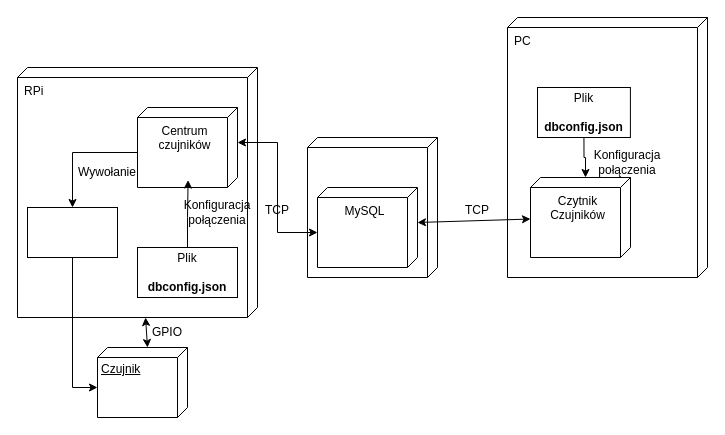
Image size: 725x435. Some labels were removed from this diagram. Each missing label, with the box of its shape:
Serwer bazy danych: (306, 136, 438, 278)
Skrypt pobierający odczyt: (26, 206, 118, 258)
